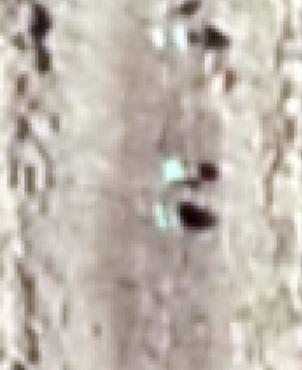cotton: (164, 160, 183, 180), (174, 26, 188, 46), (157, 202, 166, 228)
